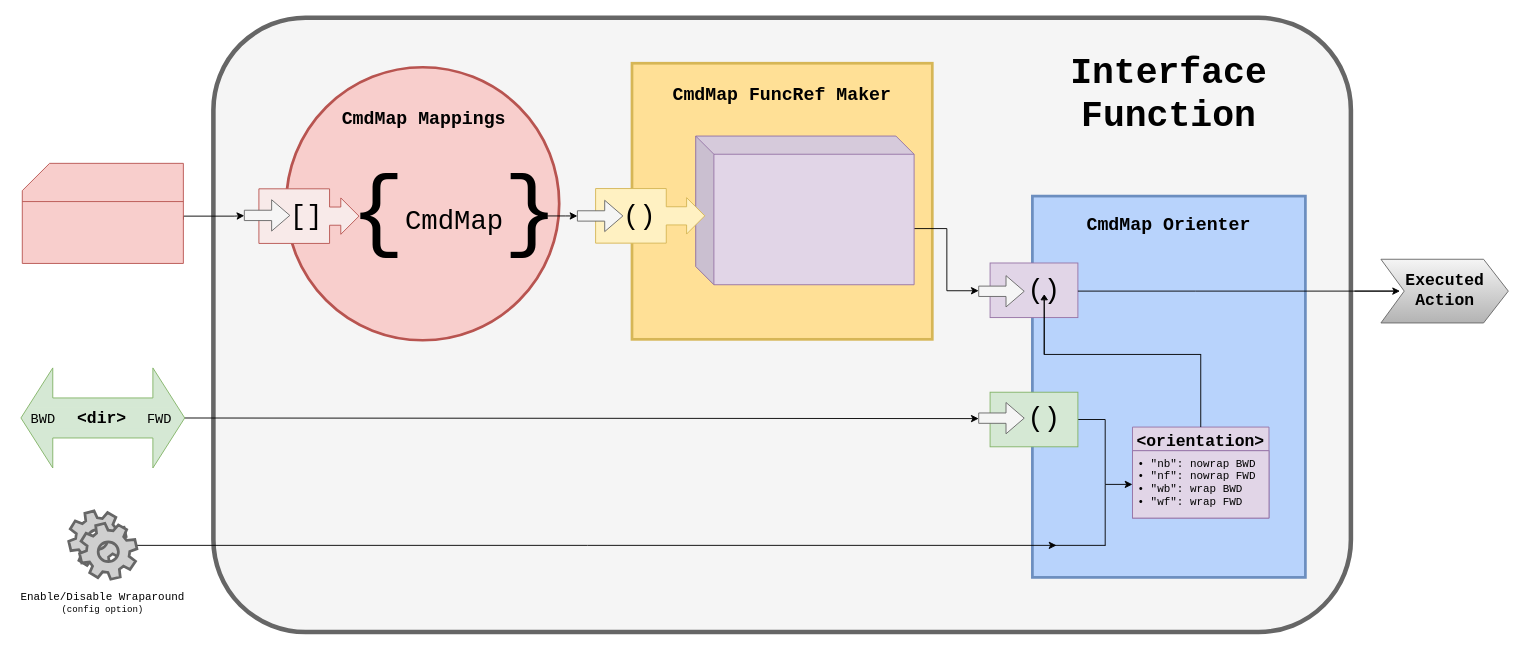
The diagram is 1524 pixels wide and 650 high, and some of its shapes have lost their labels. Here are the shapes that lost their labels. From the top down, the centre of each, then its label:
At point (102, 212): "<action type> CopyBufferToTab SwitchTabInBufMode MoveTab etc.".
At point (804, 210): "CmdMap FuncRef (closure)".
